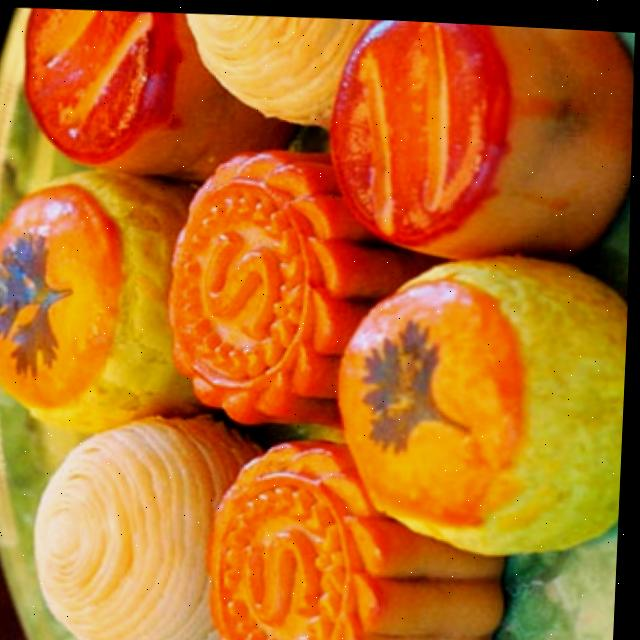蛋糕甜品: (0, 9, 578, 640)
